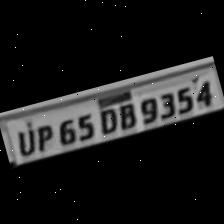3: (154, 87, 178, 119)
4: (188, 76, 216, 108)
5: (70, 107, 98, 141), (170, 82, 196, 114)
6: (51, 113, 80, 148)
9: (133, 92, 161, 124)
B: (112, 98, 138, 130)
D: (91, 100, 119, 134)
P: (30, 119, 56, 152)
U: (7, 122, 37, 158)
